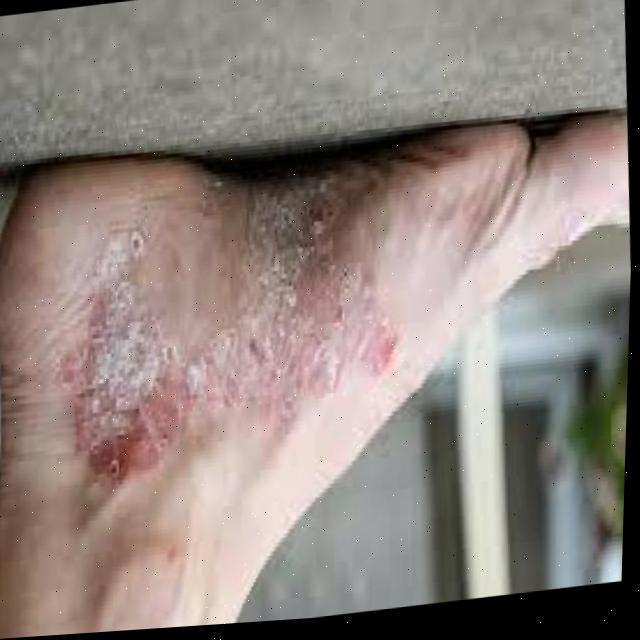Eczema: (64, 234, 369, 475)
